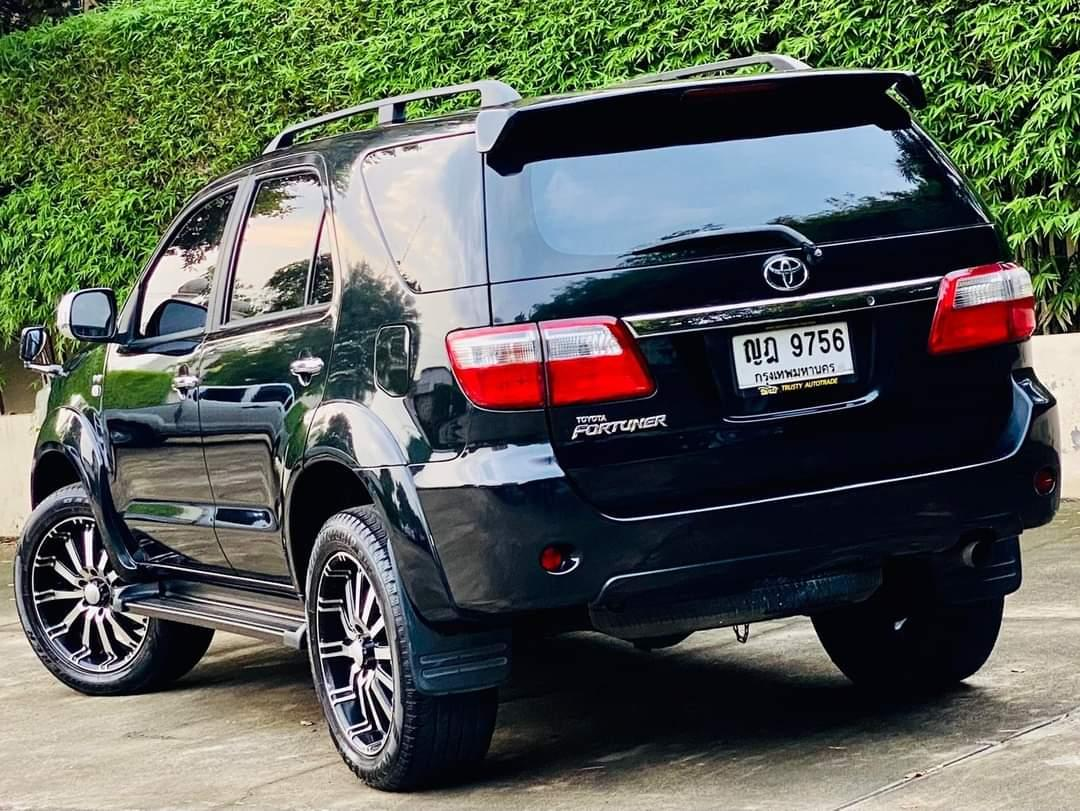license-plate: (732, 326, 855, 396)
